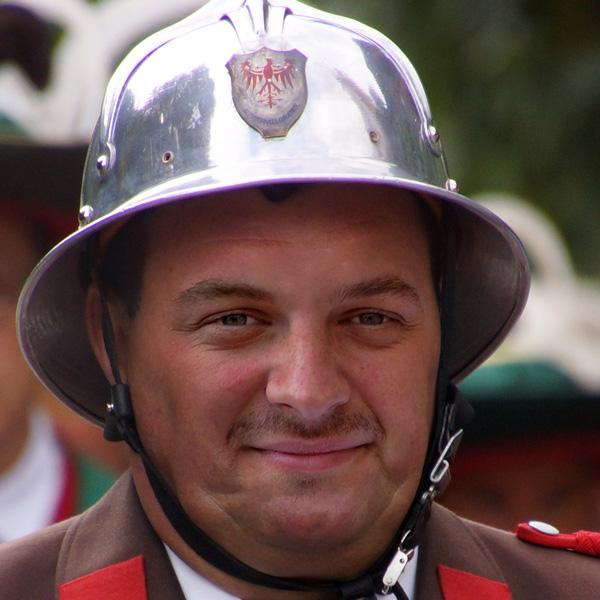Eyes: (188, 296, 280, 349), (329, 299, 411, 340)
